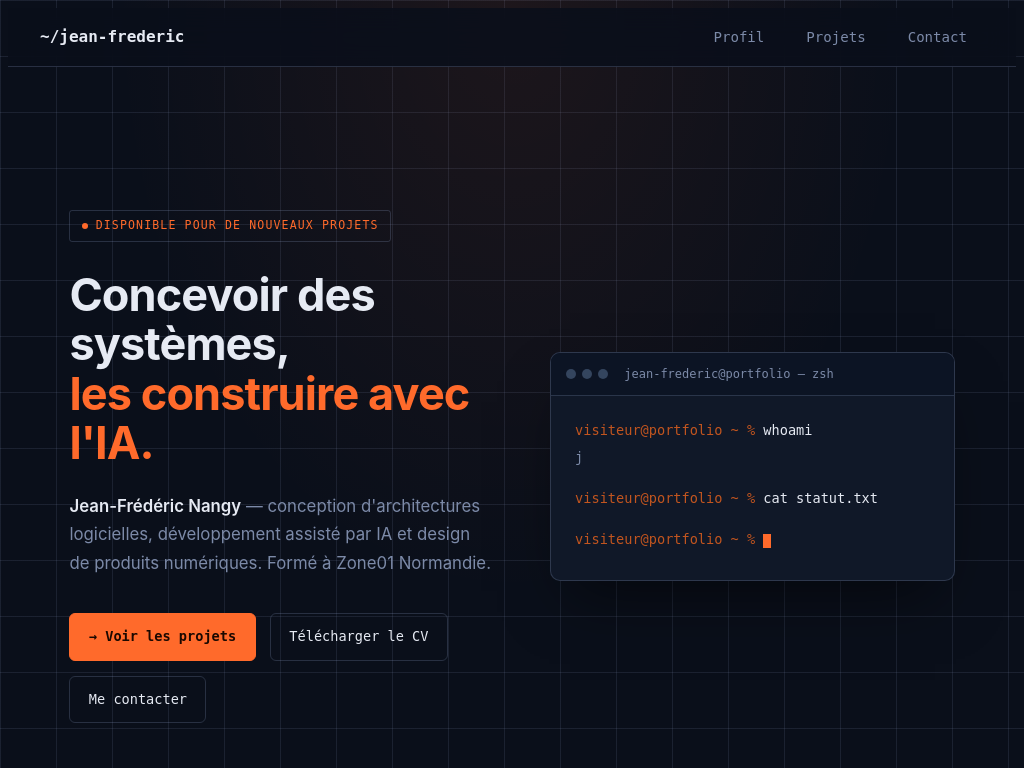
it: Navigation Portfolio › Doit ouvrir le formulaire de contact
Click the link with id "contact" at (938, 37), box [908, 29, 967, 45]
(page scrolled)
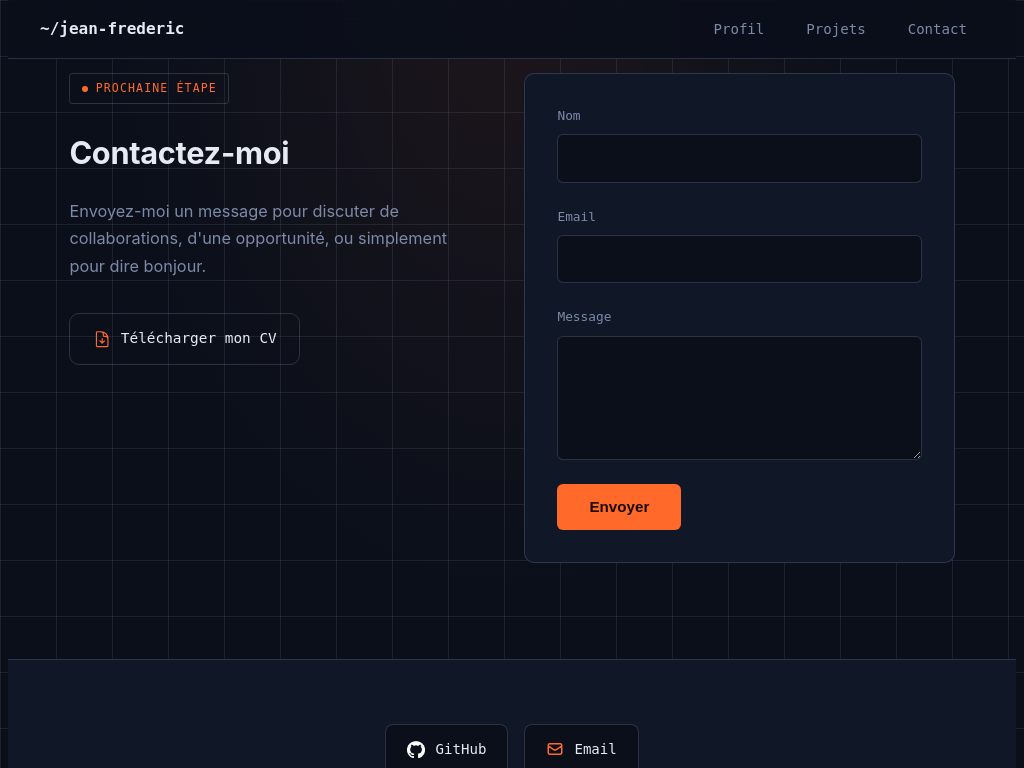
Check: the form is shown, box [524, 73, 954, 563]
